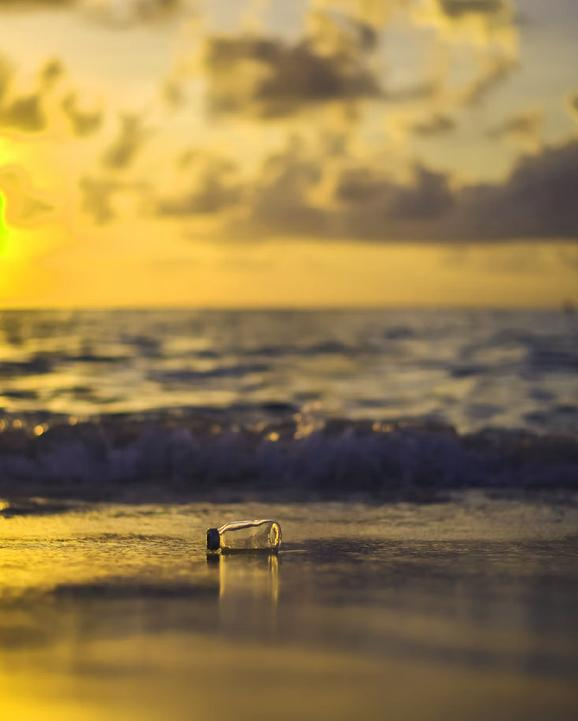Plastic: (194, 511, 292, 571)
